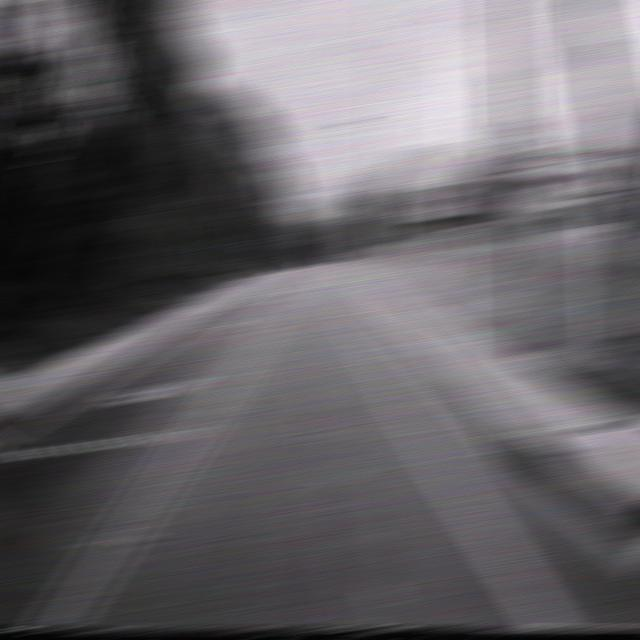speedLimit35: (504, 118, 547, 176)
